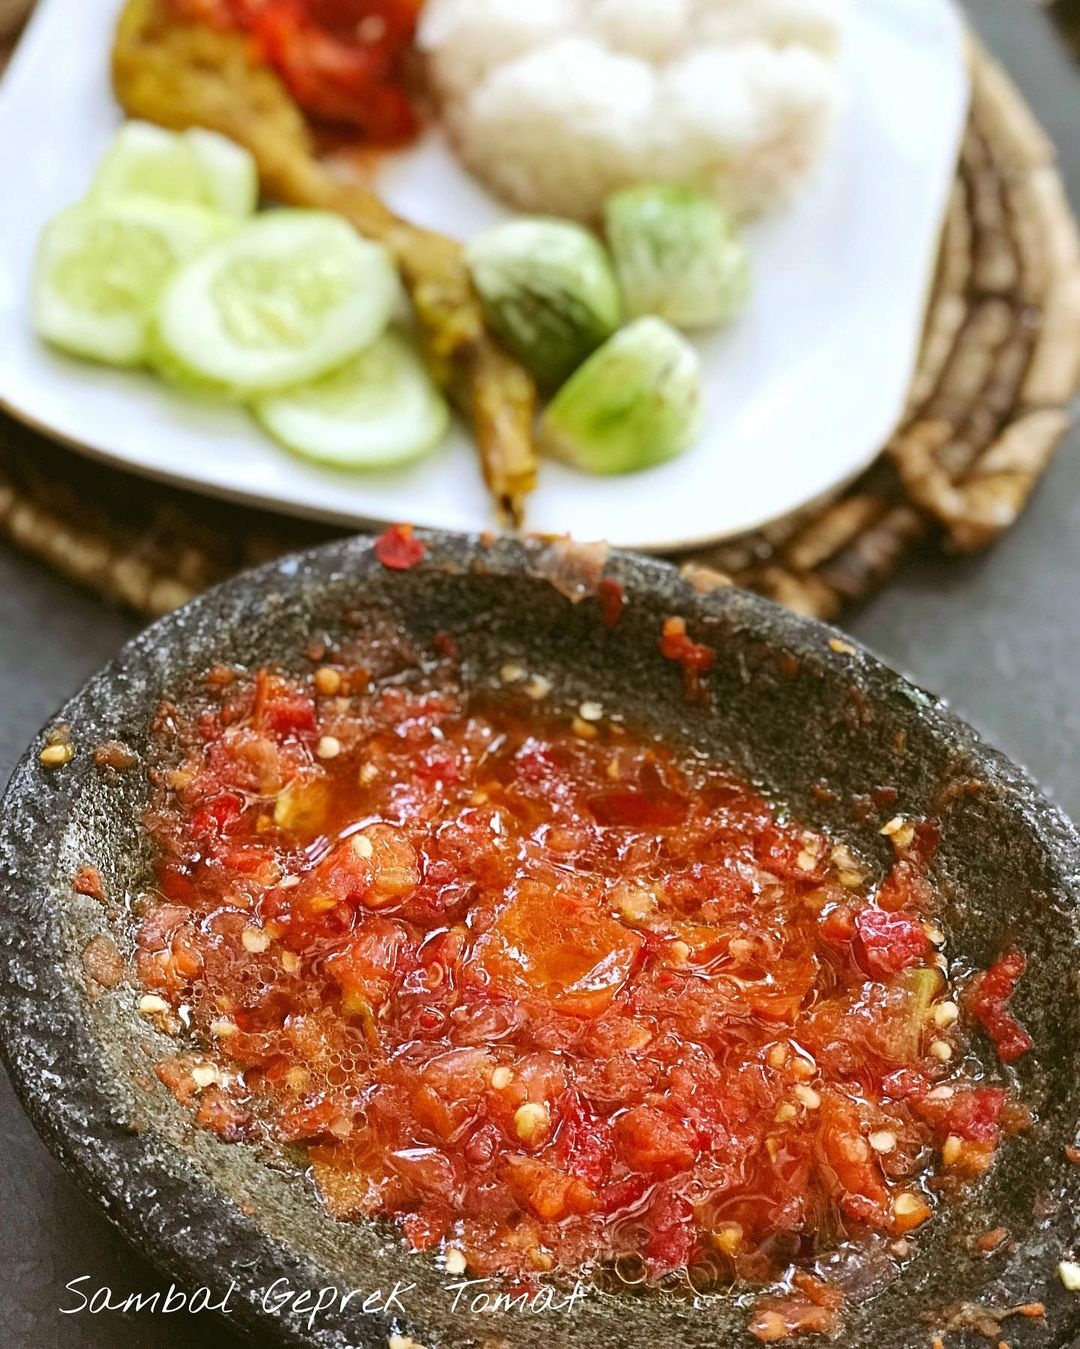sambal: (156, 691, 968, 1284)
